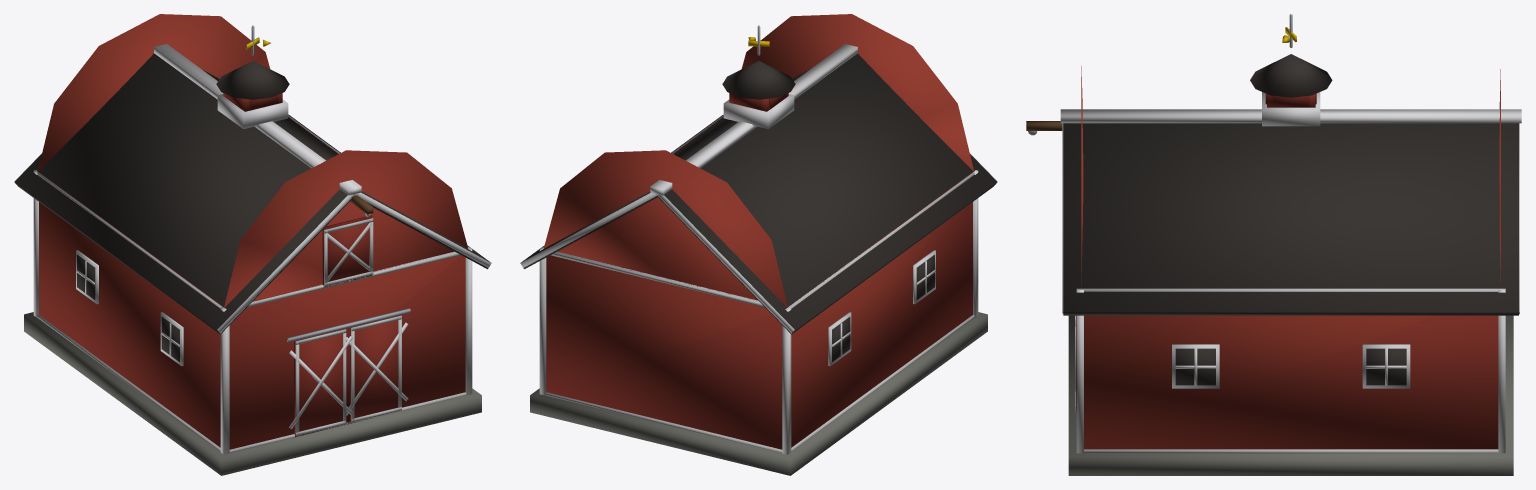
Rendered from farm_barn.glb.
The picture shows the model from 3 angles, left to right: view 1: azimuth 30°, elevation 25°; view 2: azimuth 150°, elevation 25°; view 3: azimuth 270°, elevation 25°; orthographic projection. The views are drawn at different scales.
Parts seen in each view (by area): view 1: farm_barn; view 2: farm_barn; view 3: farm_barn.
Part boxes in pixels (x1,y1,x2,y2): farm_barn: [14, 14, 491, 475]; farm_barn: [520, 14, 997, 475]; farm_barn: [1026, 14, 1521, 475].
Bounding box in the file's own units: 6.76 × 8.13 × 9.35.
